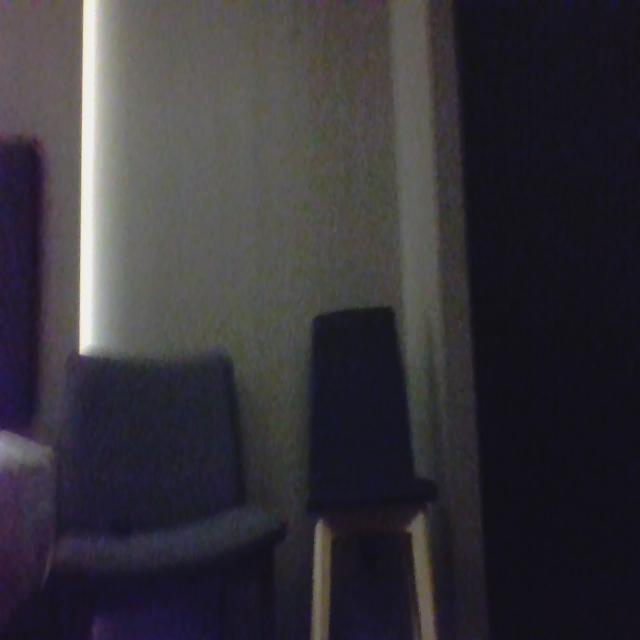empty: (46, 349, 266, 552), (297, 308, 413, 509)
